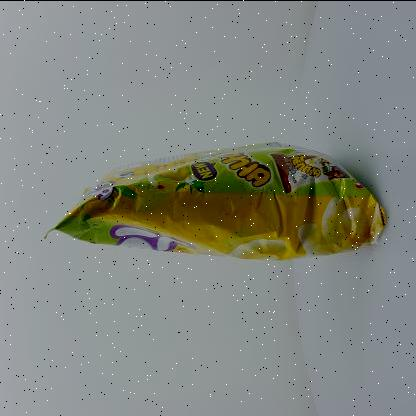Others: (32, 128, 400, 274)
